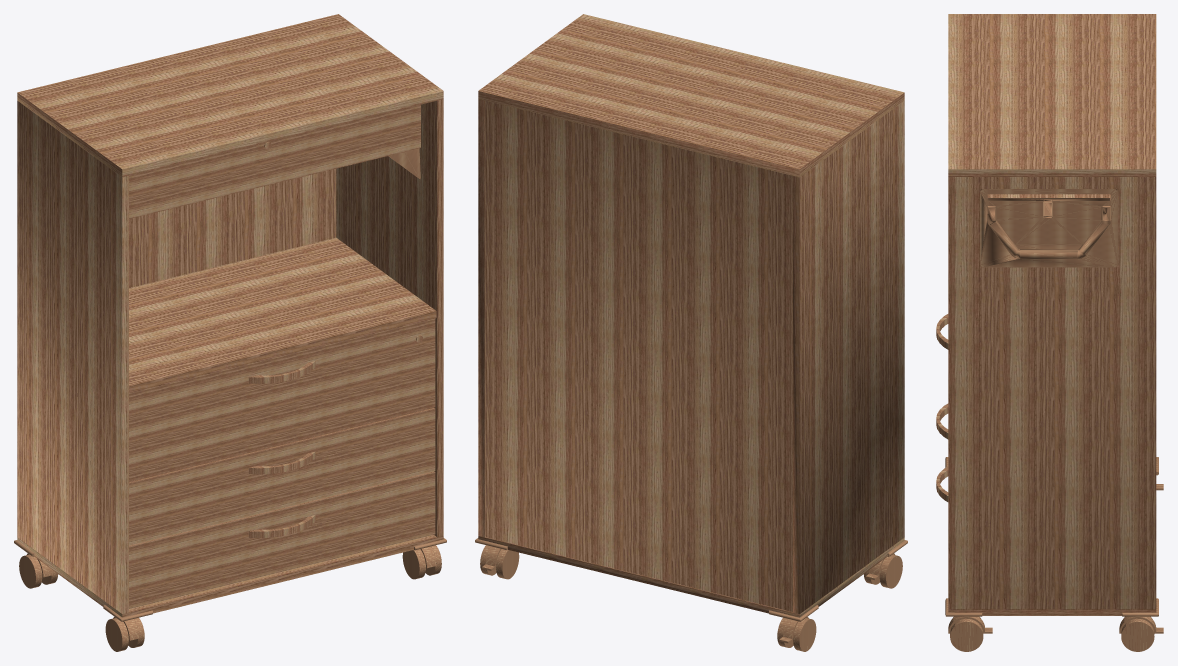
Rendered from personal_container_drawer_79x45_finala.fbx.
3 views of the same model, side by side, from view 1: azimuth 30°, elevation 25°; view 2: azimuth 150°, elevation 25°; view 3: azimuth 270°, elevation 25° (orthographic).
Visible parts, largest first — view 1: obudowa_mesh, fronty_mesh, plastik_mesh, metal_mesh; view 2: obudowa_mesh, plastik_mesh; view 3: obudowa_mesh, plastik_mesh, metal_mesh.
Boxes of the visible parts, <box> form: obudowa_mesh: <box>17,14,443,617</box>; fronty_mesh: <box>129,104,435,608</box>; plastik_mesh: <box>14,105,446,651</box>; metal_mesh: <box>248,141,422,538</box>; obudowa_mesh: <box>478,14,904,617</box>; plastik_mesh: <box>475,538,907,651</box>; obudowa_mesh: <box>948,14,1156,615</box>; plastik_mesh: <box>945,189,1163,651</box>; metal_mesh: <box>936,314,948,501</box>.
Size of the model in its own units: 80.6 by 115 by 49.2.
